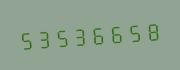eight: (143, 16, 160, 45)
five: (53, 22, 70, 51), (125, 17, 142, 46), (17, 25, 34, 53)
six: (107, 18, 124, 47), (89, 20, 106, 48)
three: (35, 23, 52, 52), (71, 21, 88, 50)
